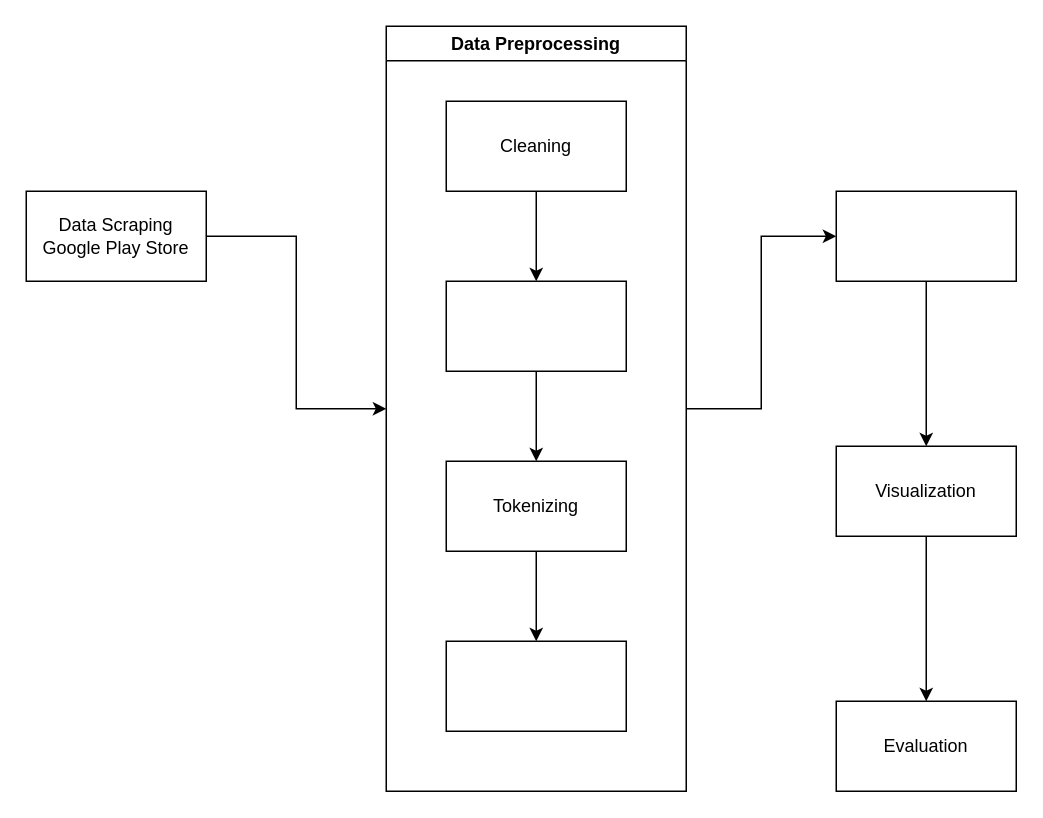
Image size: 1043x818. Some labels were removed from this diagram. Each missing label, with the centre of its shape:
"Casefolding" goes at [535,325].
"Filtering/Stopwords" goes at [535,685].
"Sentiment Analysis IndoBERT" goes at [925,235].
